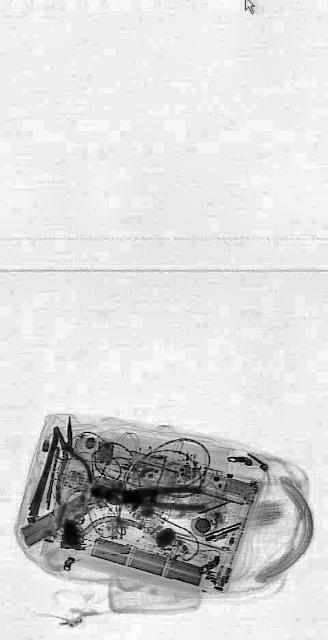Pliers: (45, 410, 93, 504), (122, 482, 205, 512)
